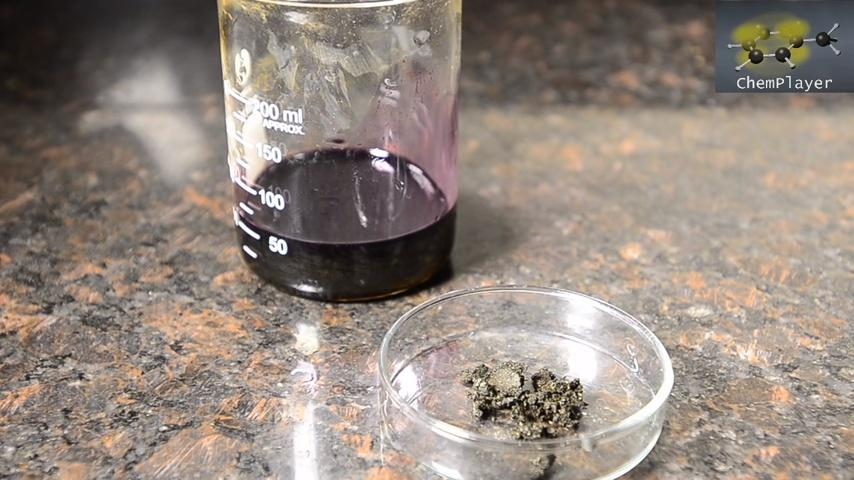Beaker: (205, 4, 490, 299)
